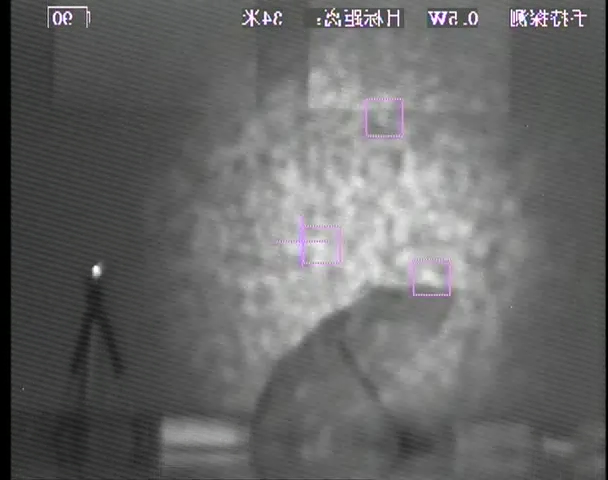my: (90, 263, 102, 276)
